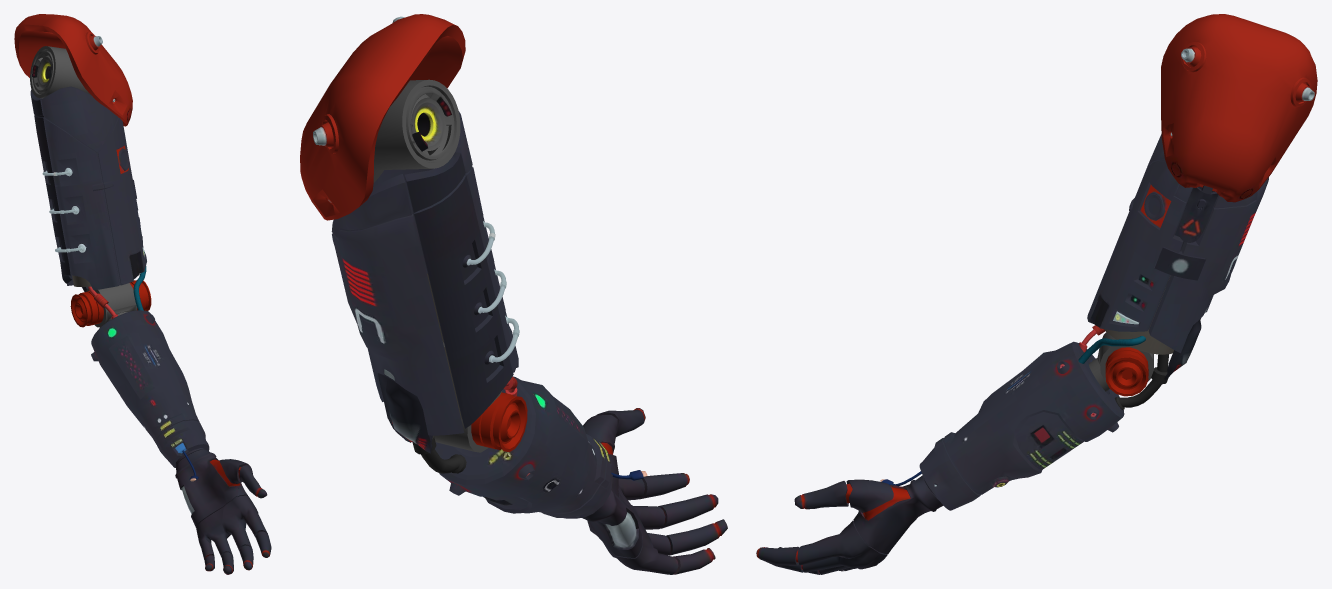
File: l-x3-b_bionic_arm.glb
3 views of the same model, side by side, from view 1: azimuth 30°, elevation 25°; view 2: azimuth 150°, elevation 25°; view 3: azimuth 270°, elevation 25° (orthographic). The views are drawn at different scales.
Parts seen in each view (by area): view 1: Object_2, Object_17, Object_12, Object_3, Object_14, Object_6, Object_16, Object_10; view 2: Object_7, Object_3, Object_6, Object_17, Object_12, Object_14, Object_16, Object_2, Object_9, Object_21, Object_10; view 3: Object_3, Object_17, Object_2, Object_12, Object_7, Object_16, Object_8, Object_11, Object_21, Object_10, Object_15, Object_9.
Part boxes in pixels (box(x1,y1,x2,y2)): Object_2: box(41, 86, 146, 290); Object_17: box(91, 310, 209, 467); Object_12: box(175, 448, 271, 574); Object_3: box(14, 14, 132, 126); Object_14: box(30, 46, 91, 98); Object_6: box(30, 89, 71, 283); Object_16: box(70, 280, 151, 327); Object_10: box(86, 283, 136, 327); Object_7: box(331, 174, 464, 435); Object_3: box(300, 14, 465, 220); Object_6: box(404, 152, 513, 428); Object_17: box(435, 376, 612, 518); Object_12: box(582, 408, 727, 574); Object_14: box(373, 79, 460, 182); Object_16: box(471, 392, 527, 452); Object_2: box(373, 111, 518, 372); Object_9: box(378, 369, 432, 453); Object_21: box(412, 435, 466, 473); Object_10: box(434, 341, 488, 452); Object_3: box(1161, 14, 1317, 202); Object_17: box(919, 341, 1124, 510); Object_2: box(1087, 134, 1192, 331); Object_12: box(756, 475, 943, 574); Object_7: box(1148, 177, 1268, 353); Object_16: box(1105, 347, 1148, 396); Object_8: box(1178, 185, 1218, 242); Object_11: box(1154, 247, 1205, 280); Object_21: box(1114, 354, 1169, 409); Object_10: box(1088, 281, 1168, 391); Object_15: box(1104, 275, 1173, 354); Object_9: box(1164, 308, 1207, 380).
Size of the model in its own units: 11.15 by 50.38 by 46.08.
20 materials, 18 textured.
